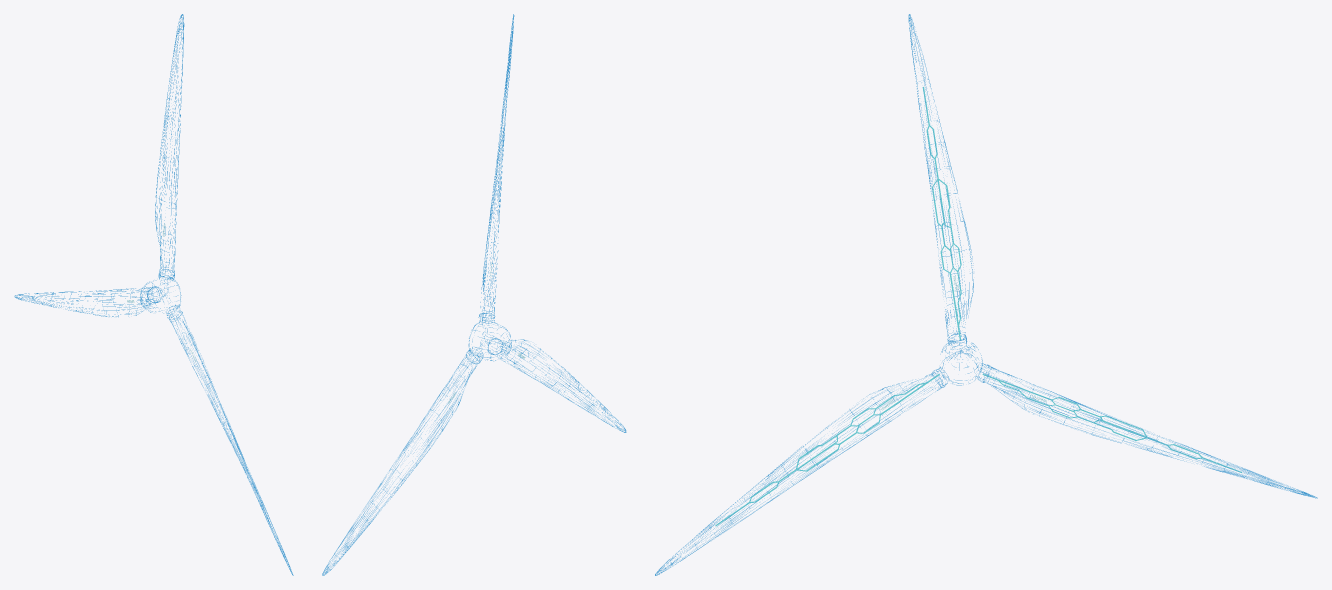
The model's file is liuguang.glb.
The picture shows the model from 3 angles, left to right: view 1: azimuth 30°, elevation 25°; view 2: azimuth 150°, elevation 25°; view 3: azimuth 270°, elevation 25°; orthographic projection. The views are drawn at different scales.
Visible parts, largest first — view 1: 外壳; view 2: 外壳; view 3: 外壳, 模型_1, 模型, 模型_2.
Part boxes in pixels (x1=…): 外壳: x1=14, y1=14, x2=293, y2=575; 外壳: x1=322, y1=14, x2=626, y2=575; 外壳: x1=655, y1=14, x2=1317, y2=575; 模型_1: x1=715, y1=374, x2=939, y2=525; 模型: x1=922, y1=87, x2=961, y2=339; 模型_2: x1=982, y1=373, x2=1242, y2=472.
Bounding box in the file's own units: 15.71 × 219 × 235.
